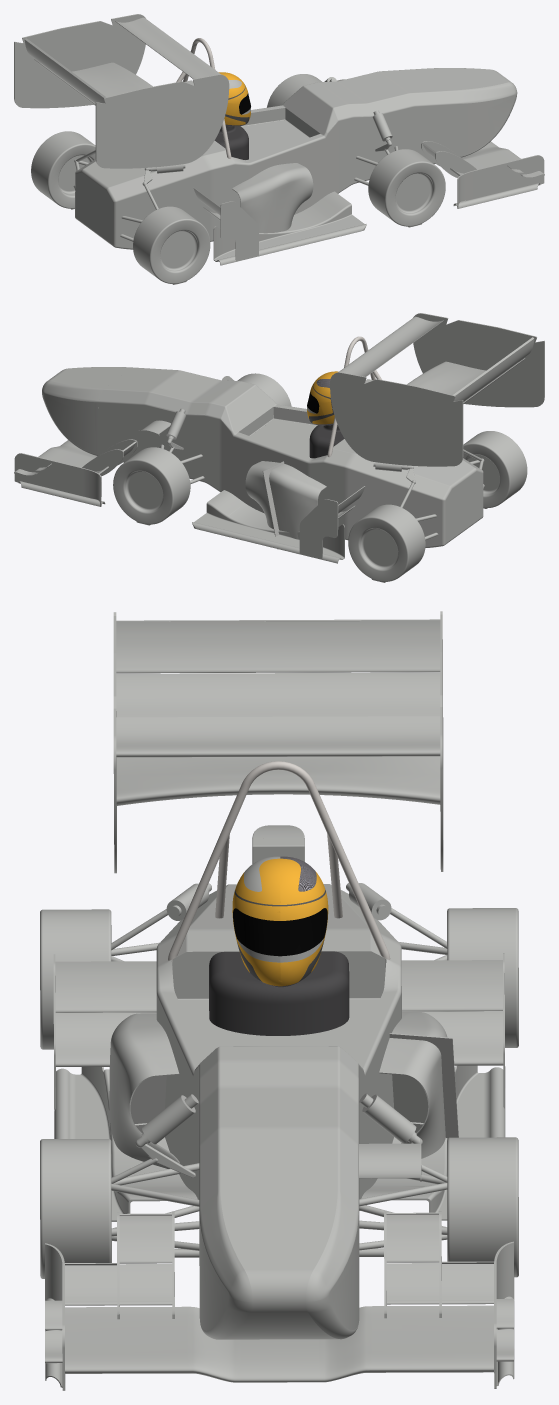
3 renders of one model, top to bottom at view 1: azimuth 30°, elevation 25°; view 2: azimuth 150°, elevation 25°; view 3: azimuth 270°, elevation 25°, orthographic. The views are drawn at different scales.
Visible parts, largest first — view 1: f33cfd001-1, f33cfd408-2, f33cfd407-1, mini_33_ut-1, f33cfd007-2, f33cfd007-4, f33cfd043-1, f33cfd3172-1, f33cfd007-3, Mirrorxcadmodel-R1132100905739-00028854-2, f33cfd404-4, f33cfd005-1 (+7 smaller); view 2: f33cfd001-1, f33cfd407-1, f33cfd408-2, mini_33_ut-1, f33cfd007-3, f33cfd007-1, f33cfd043-1, f33cfd317-1, f33cfd007-2, f33cfd125-1, f33cfd404-4, f33cfd005-1 (+8 smaller); view 3: f33cfd001-1, f33cfd101-1, f33cfd043-1, f33cfd005-1, f33cfd405-1, f33cfd403-1, f33cfd404-4, f33cfd409-1, mini_33_ut-1, f33cfd4052-1, f33cfd007-1, f33cfd007-4 (+21 smaller).
Boxes of the visible parts, bbox=[...] form: f33cfd001-1: bbox=[75, 68, 460, 249]; f33cfd408-2: bbox=[95, 74, 229, 168]; f33cfd407-1: bbox=[14, 14, 145, 108]; mini_33_ut-1: bbox=[213, 191, 366, 265]; f33cfd007-2: bbox=[133, 206, 210, 284]; f33cfd007-4: bbox=[368, 149, 445, 227]; f33cfd043-1: bbox=[426, 68, 517, 157]; f33cfd3172-1: bbox=[232, 163, 313, 233]; f33cfd007-3: bbox=[31, 131, 95, 209]; Mirrorxcadmodel-R1132100905739-00028854-2: bbox=[453, 155, 544, 208]; f33cfd404-4: bbox=[115, 17, 220, 78]; f33cfd005-1: bbox=[214, 72, 251, 159]; f33cfd001-1: bbox=[98, 367, 483, 547]; f33cfd407-1: bbox=[330, 372, 463, 466]; f33cfd408-2: bbox=[413, 313, 544, 407]; mini_33_ut-1: bbox=[192, 490, 344, 563]; f33cfd007-3: bbox=[348, 504, 425, 582]; f33cfd007-1: bbox=[113, 447, 190, 525]; f33cfd043-1: bbox=[42, 367, 132, 455]; f33cfd317-1: bbox=[245, 461, 326, 549]; f33cfd007-2: bbox=[463, 431, 527, 508]; f33cfd125-1: bbox=[14, 453, 105, 506]; f33cfd404-4: bbox=[338, 316, 443, 376]; f33cfd005-1: bbox=[307, 371, 344, 458]; f33cfd001-1: bbox=[156, 884, 401, 1236]; f33cfd101-1: bbox=[65, 1305, 493, 1382]; f33cfd043-1: bbox=[199, 1190, 359, 1339]; f33cfd005-1: bbox=[209, 856, 349, 1035]; f33cfd405-1: bbox=[116, 619, 440, 673]; f33cfd403-1: bbox=[116, 672, 440, 717]; f33cfd404-4: bbox=[116, 716, 440, 757]; f33cfd409-1: bbox=[116, 756, 440, 805]; mini_33_ut-1: bbox=[53, 953, 505, 1221]; f33cfd4052-1: bbox=[55, 960, 502, 1012]; f33cfd007-1: bbox=[447, 1137, 518, 1277]; f33cfd007-4: bbox=[40, 1139, 111, 1278].
Bounding box in the file's own units: 3.04 × 1.23 × 1.39.
8 materials, 1 textured.
